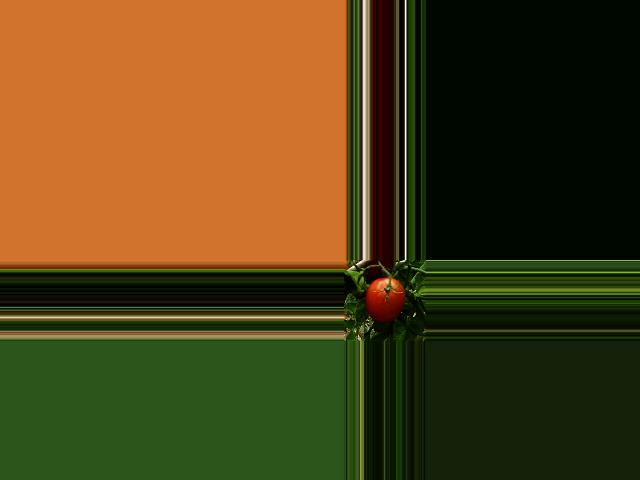tomato: (366, 277, 405, 321)
